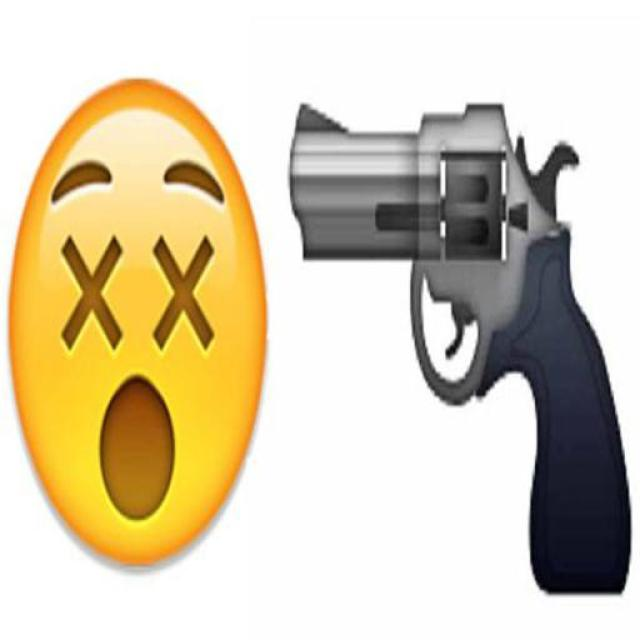pistol: (286, 79, 631, 593)
